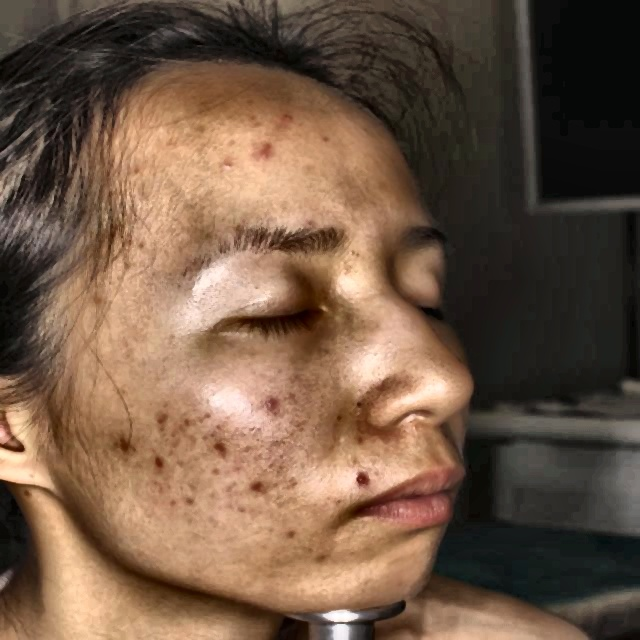pustule: (207, 438, 240, 465), (350, 468, 374, 500), (259, 388, 287, 410), (248, 138, 273, 162), (244, 476, 264, 502), (276, 110, 303, 129), (145, 452, 169, 472)
